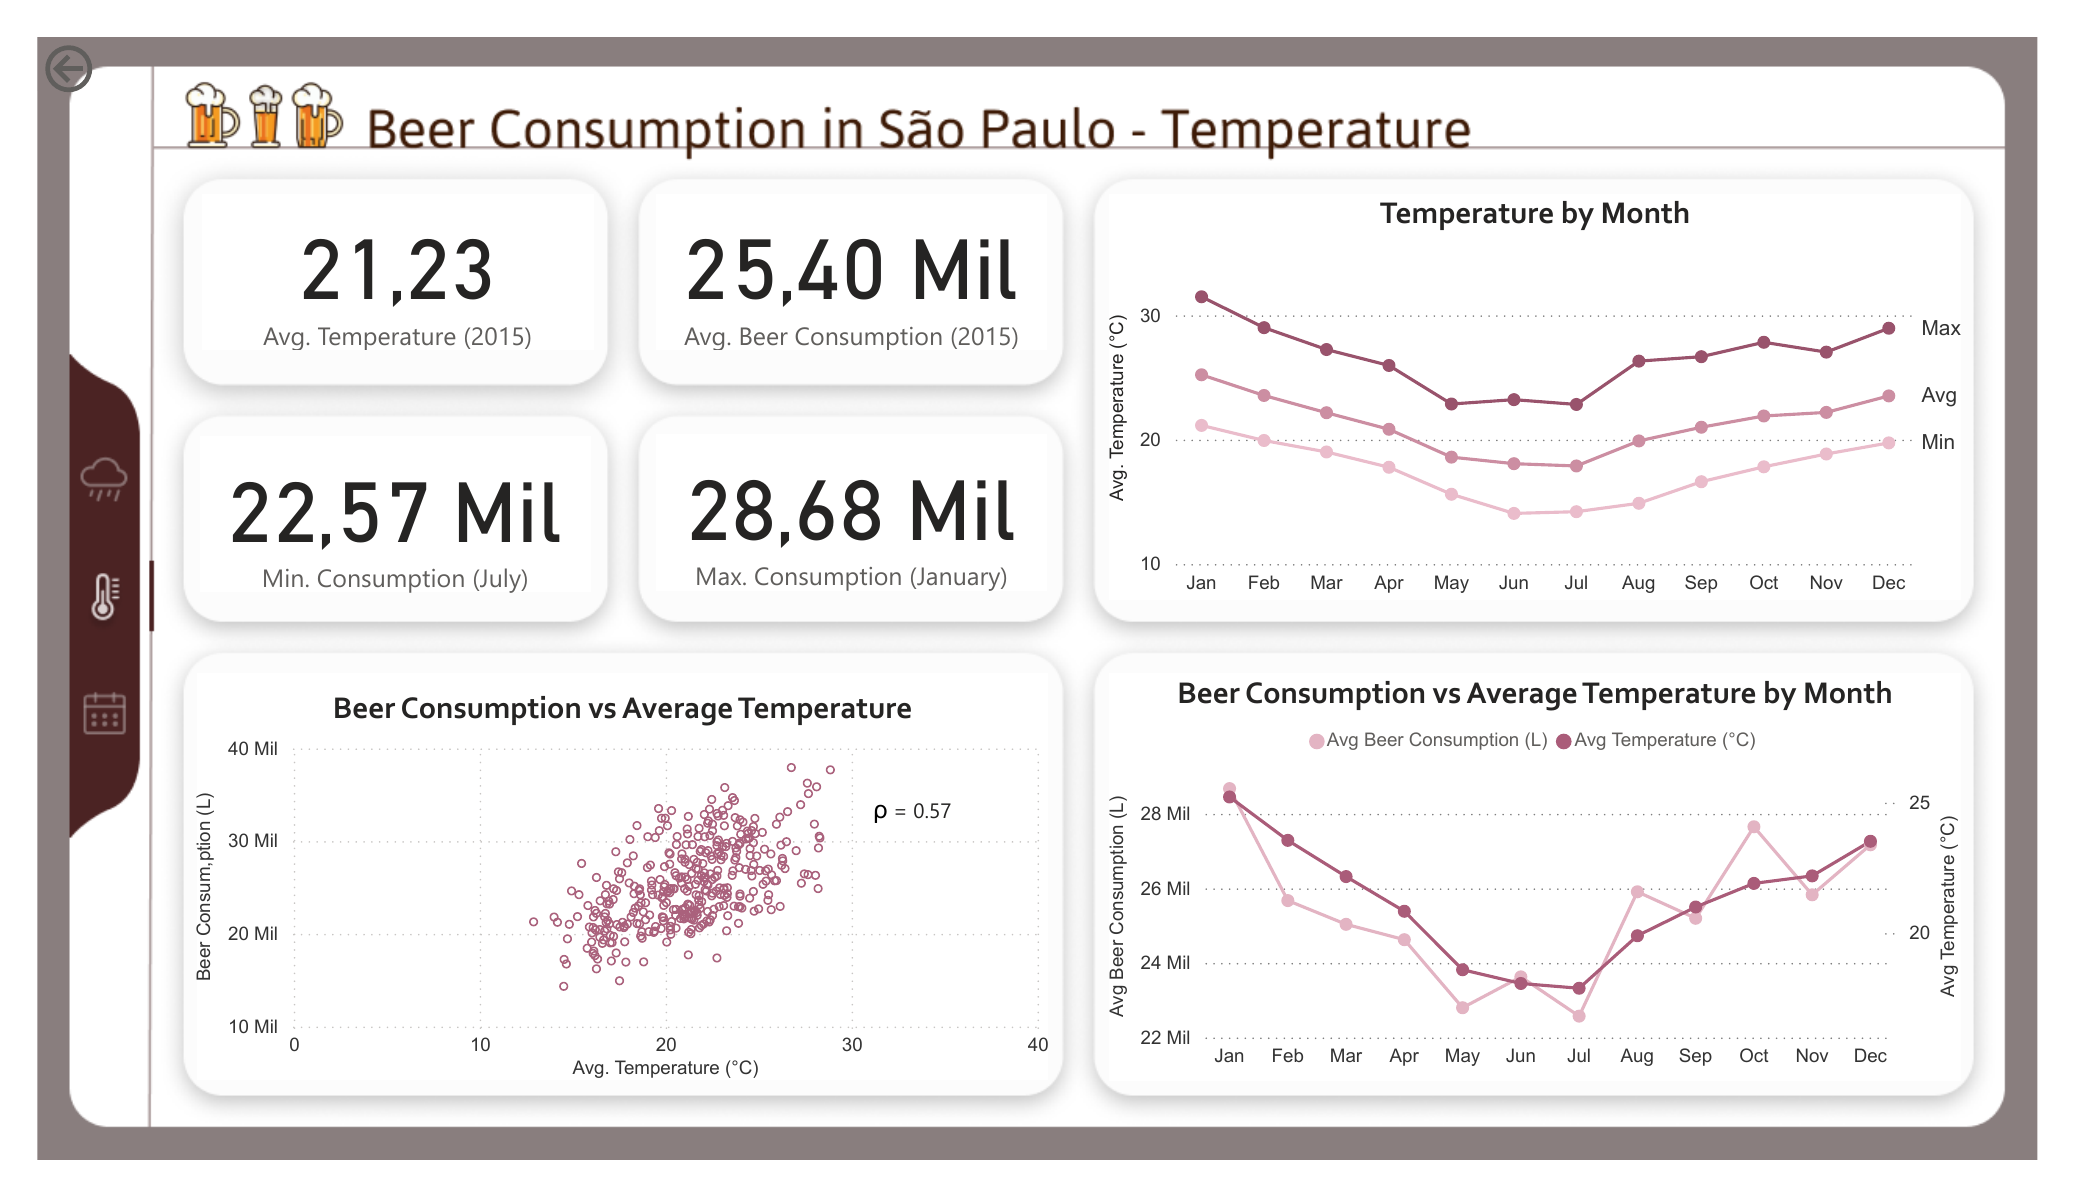

Layout of this report page (visuals, bound fields, positions):
{"tool":"powerbi","page":{"name":"Temperature","canvas":[1280,720],"ordinal":1},"visuals":[{"type":"scatterChart","title":"Beer Consumption vs Average Temperature","fields":{"X":["SP - Consumo de Cerveja.Temperatura Media (C)"],"Y":["SP - Consumo de Cerveja.Consumo de cerveja (litros)"]},"box":[101.9,407.4,545.3,259.9],"z":0},{"type":"lineChart","title":"Beer Consumption vs Average Temperature by Month","fields":{"Y":["Avg(SP - Consumo de Cerveja.Consumo de cerveja (litros))"],"Y2":["Avg(SP - Consumo de Cerveja.Temperatura Media (C))"],"Category":["SP - Consumo de Cerveja.Month"]},"box":[685.8,407.4,545.3,260.8],"z":1000},{"type":"lineChart","title":"Temperature by Month","fields":{"Y":["Avg(SP - Consumo de Cerveja.Temperatura Minima (C))","Avg(SP - Consumo de Cerveja.Temperatura Media (C))","Avg(SP - Consumo de Cerveja.Temperatura Maxima (C))"],"Category":["SP - Consumo de Cerveja.Month"]},"box":[685.8,100.1,545.3,259.9],"z":2000},{"type":"actionButton","box":[0,0,100,40],"z":3000},{"type":"card","fields":{"Values":["_Metrics.Avg_Beer_Consump"]},"box":[396,100.1,250.2,100.1],"z":4000},{"type":"card","fields":{"Values":["_Metrics.Max_Consump_Month"]},"box":[396,254,250.2,100.1],"z":5000},{"type":"card","fields":{"Values":["_Metrics.Min_Consump_Month"]},"box":[103.6,254.6,250.2,100.1],"z":6000},{"type":"card","fields":{"Values":["_Metrics.Avg_Temp_Year"]},"box":[105.4,100,250.2,100.1],"z":7000},{"type":"textbox","box":[530.1,481.5,87.5,31.1],"z":8000},{"type":"actionButton","box":[21.1,413.6,44.8,40.4],"z":9000},{"type":"actionButton","box":[21.1,262.5,44.8,40.4],"z":10000}]}

Visuals, with their boxes on the page's 1280x720 design canvas (x1, y1, x2, y2). These are canvas units, not pixel positions in the 2075x1200 screenshot, which may show the page scaled, cropped or inside an application window:
"Beer Consumption vs Average Temperature" scatterChart: x1=102, y1=407, x2=647, y2=667
"Beer Consumption vs Average Temperature by Month" lineChart: x1=686, y1=407, x2=1231, y2=668
"Temperature by Month" lineChart: x1=686, y1=100, x2=1231, y2=360
actionButton: x1=0, y1=0, x2=100, y2=40
card - _Metrics.Avg_Beer_Consump: x1=396, y1=100, x2=646, y2=200
card - _Metrics.Max_Consump_Month: x1=396, y1=254, x2=646, y2=354
card - _Metrics.Min_Consump_Month: x1=104, y1=255, x2=354, y2=355
card - _Metrics.Avg_Temp_Year: x1=105, y1=100, x2=356, y2=200
textbox: x1=530, y1=482, x2=618, y2=513
actionButton: x1=21, y1=414, x2=66, y2=454
actionButton: x1=21, y1=262, x2=66, y2=303
